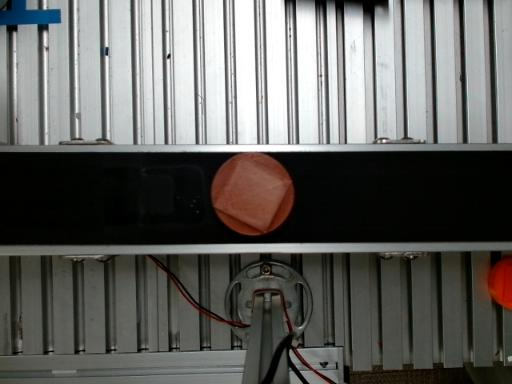Brown_Waper: (211, 154, 294, 235)
Square: (212, 155, 292, 233)
